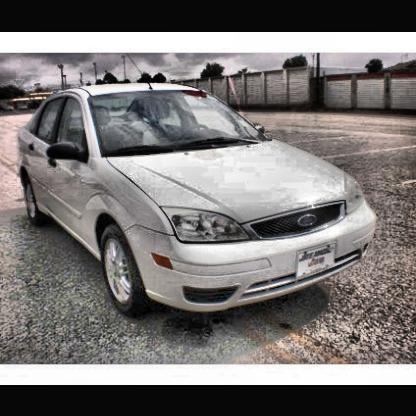Ford Focus Sedan 2007: (16, 81, 379, 321)
